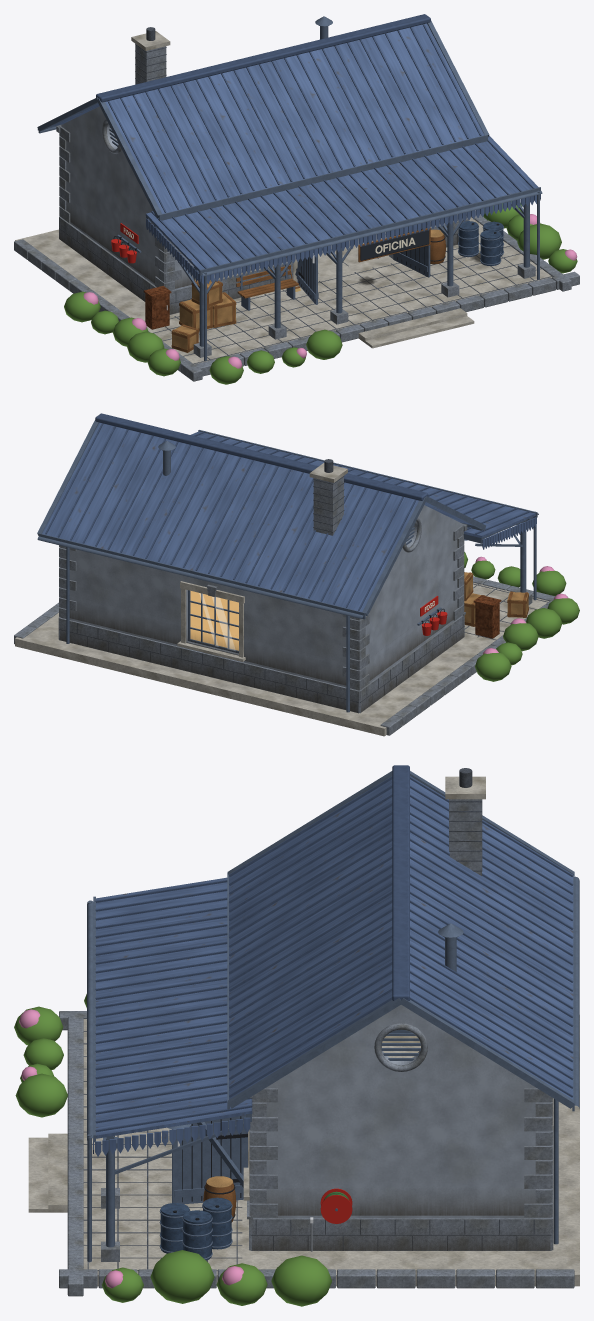
The model's file is oficina.glb.
3 renders of one model, top to bottom at view 1: azimuth 30°, elevation 25°; view 2: azimuth 150°, elevation 25°; view 3: azimuth 270°, elevation 25°, orthographic. The views are drawn at different scales.
Parts seen in each view (by area): view 1: Telhado_telhado_metal_azul, Plataforma_concreto_plataforma, Alpendre_Cobertura_telhado_metal_azul, Telhado_Detalhes_telhado_cumeeira, Paredes_pedra_fachada, Objetos_Patio_folhagem, Plataforma_pedra_base, Alpendre_Estrutura_metal_estrutura, Pedras_Embasamento_Cunhais_pedra_base, Telhado_Detalhes_metal_estrutura, Alpendre_Cobertura_telhado_cumeeira, Alpendre_Estrutura_telhado_metal_azul (+14 smaller); view 2: Telhado_telhado_metal_azul, Paredes_pedra_fachada, Pedras_Embasamento_Cunhais_pedra_base, Telhado_Detalhes_telhado_cumeeira, Plataforma_concreto_plataforma, Desgaste_Decalques_sujeira_base, Telhado_Detalhes_metal_estrutura, Objetos_Patio_folhagem, Alpendre_Cobertura_telhado_metal_azul, Plataforma_pedra_base, Vidros_Iluminados_vidro_iluminado, Alpendre_Estrutura_metal_estrutura (+14 smaller); view 3: Telhado_telhado_metal_azul, Paredes_pedra_fachada, Telhado_Detalhes_telhado_cumeeira, Alpendre_Cobertura_telhado_metal_azul, Plataforma_concreto_plataforma, Pedras_Embasamento_Cunhais_pedra_base, Objetos_Patio_folhagem, Plataforma_pedra_base, Alpendre_Cobertura_telhado_cumeeira, Desgaste_Decalques_sujeira_base, Telhado_Detalhes_metal_estrutura, Alpendre_Estrutura_metal_estrutura (+11 smaller).
Part boxes in pixels (x1,y1,x2,y2): Telhado_telhado_metal_azul: (51, 23, 484, 213); Plataforma_concreto_plataforma: (15, 217, 552, 364); Alpendre_Cobertura_telhado_metal_azul: (145, 135, 538, 271); Telhado_Detalhes_telhado_cumeeira: (96, 14, 481, 212); Paredes_pedra_fachada: (61, 106, 430, 288); Objetos_Patio_folhagem: (64, 201, 577, 384); Plataforma_pedra_base: (14, 210, 579, 381); Alpendre_Estrutura_metal_estrutura: (146, 187, 542, 360); Pedras_Embasamento_Cunhais_pedra_base: (56, 119, 468, 314); Telhado_Detalhes_metal_estrutura: (37, 20, 489, 220); Alpendre_Cobertura_telhado_cumeeira: (151, 139, 534, 268); Alpendre_Estrutura_telhado_metal_azul: (146, 194, 540, 285); Telhado_telhado_metal_azul: (42, 422, 473, 611); Paredes_pedra_fachada: (61, 505, 462, 690); Pedras_Embasamento_Cunhais_pedra_base: (58, 518, 467, 713); Telhado_Detalhes_telhado_cumeeira: (45, 413, 428, 610); Plataforma_concreto_plataforma: (15, 582, 548, 736); Desgaste_Decalques_sujeira_base: (60, 605, 464, 712); Telhado_Detalhes_metal_estrutura: (37, 420, 485, 712); Objetos_Patio_folhagem: (464, 552, 579, 681); Alpendre_Cobertura_telhado_metal_azul: (191, 431, 535, 537); Plataforma_pedra_base: (14, 576, 567, 735); Vidros_Iluminados_vidro_iluminado: (190, 591, 238, 650); Alpendre_Estrutura_metal_estrutura: (198, 430, 538, 600); Telhado_telhado_metal_azul: (229, 776, 573, 1099); Paredes_pedra_fachada: (252, 1005, 549, 1218); Telhado_Detalhes_telhado_cumeeira: (229, 765, 573, 1097); Alpendre_Cobertura_telhado_metal_azul: (96, 877, 252, 1138); Plataforma_concreto_plataforma: (28, 1015, 579, 1286); Pedras_Embasamento_Cunhais_pedra_base: (247, 1023, 553, 1250); Objetos_Patio_folhagem: (14, 994, 331, 1306); Plataforma_pedra_base: (59, 1011, 574, 1296); Alpendre_Cobertura_telhado_cumeeira: (95, 880, 252, 1132); Desgaste_Decalques_sujeira_base: (252, 1196, 550, 1250); Telhado_Detalhes_metal_estrutura: (227, 771, 579, 1244); Alpendre_Estrutura_metal_estrutura: (87, 896, 251, 1262).
Bounding box in the file's own units: 14.86 × 7.26 × 11.39.
Materials: 41 (17 with a texture image).
